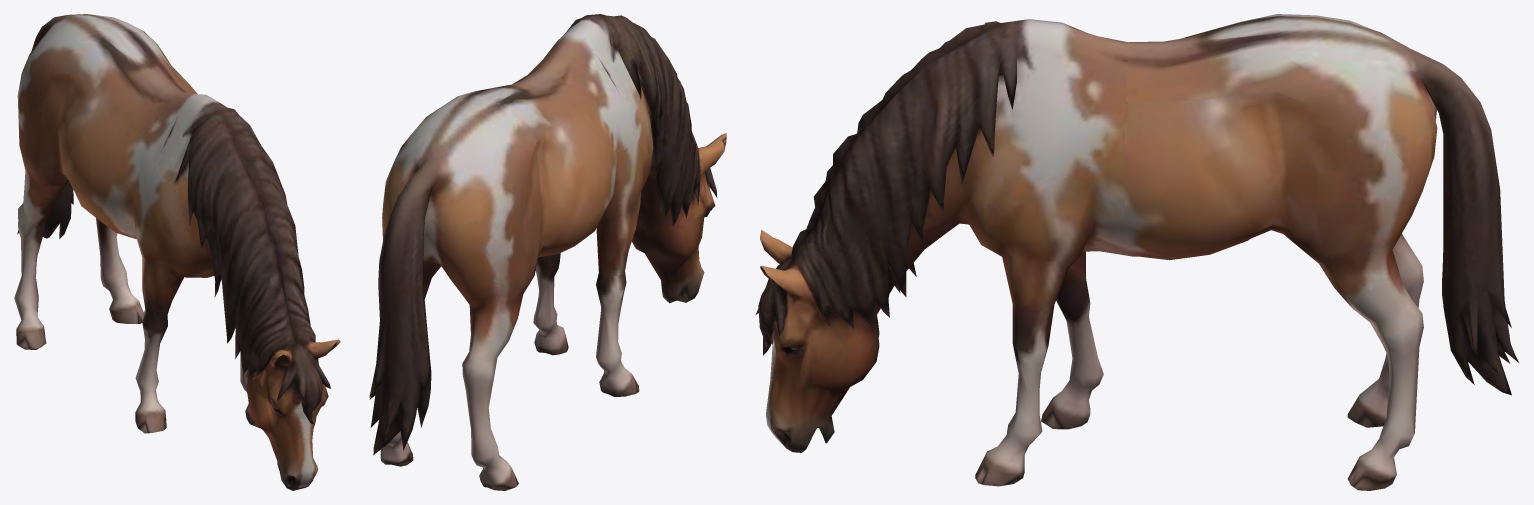
Rendered from cavalo_sitio.glb.
The picture shows the model from 3 angles, left to right: view 1: azimuth 30°, elevation 25°; view 2: azimuth 150°, elevation 25°; view 3: azimuth 270°, elevation 25°; orthographic projection. The views are drawn at different scales.
Visible parts, largest first — view 1: Cavalinho de sítio; view 2: Cavalinho de sítio; view 3: Cavalinho de sítio.
Boxes of the visible parts, <box> form: Cavalinho de sítio: <box>14,14,340,490</box>; Cavalinho de sítio: <box>369,14,726,490</box>; Cavalinho de sítio: <box>755,14,1519,490</box>.
Bounding box in the file's own units: 0.2793 × 0.6191 × 0.998.
1 material, 1 textured.
